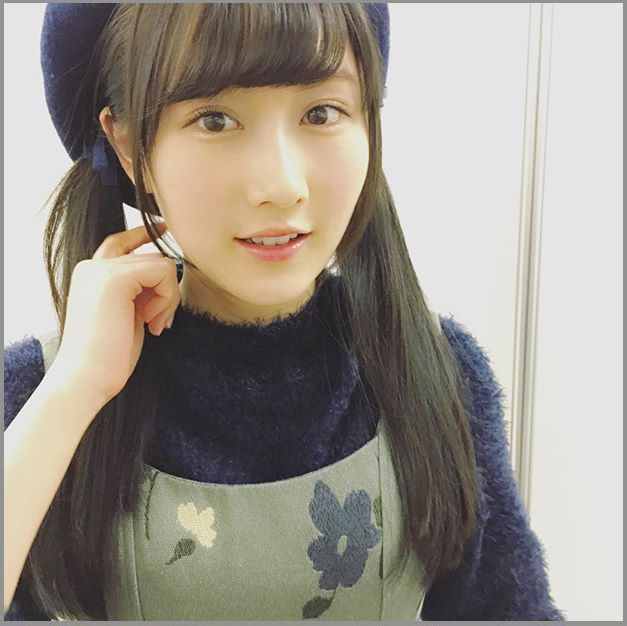face: (101, 1, 371, 299)
hand: (53, 218, 183, 371)
